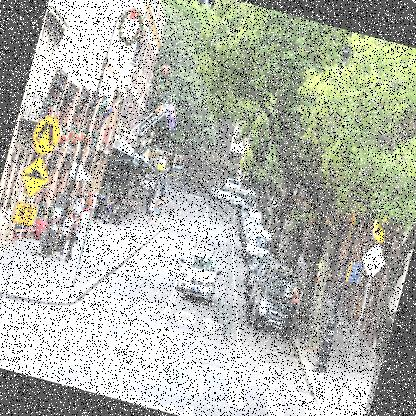Car: (180, 185, 322, 337), (237, 252, 306, 341), (172, 235, 228, 302)
